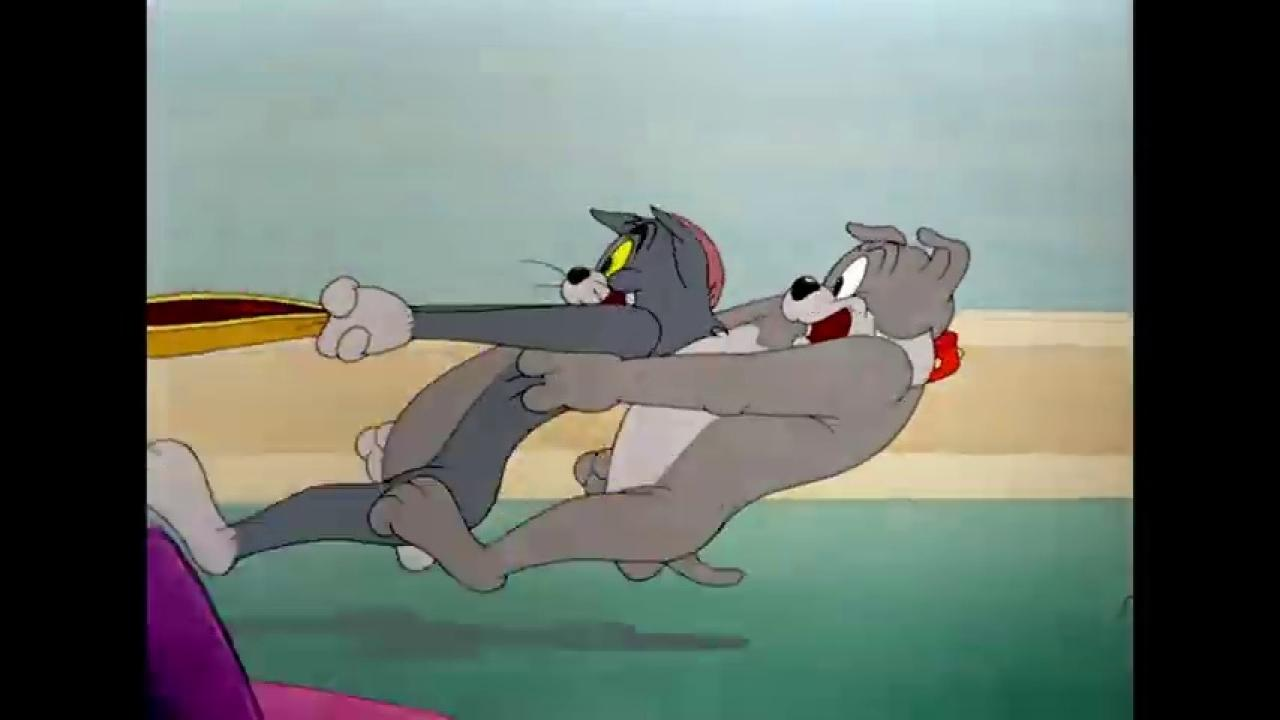Tom: (148, 203, 733, 580)
